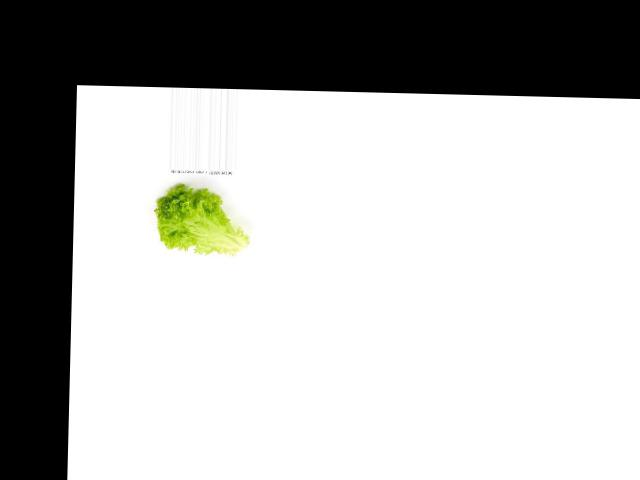lettuce: (149, 183, 250, 259)
